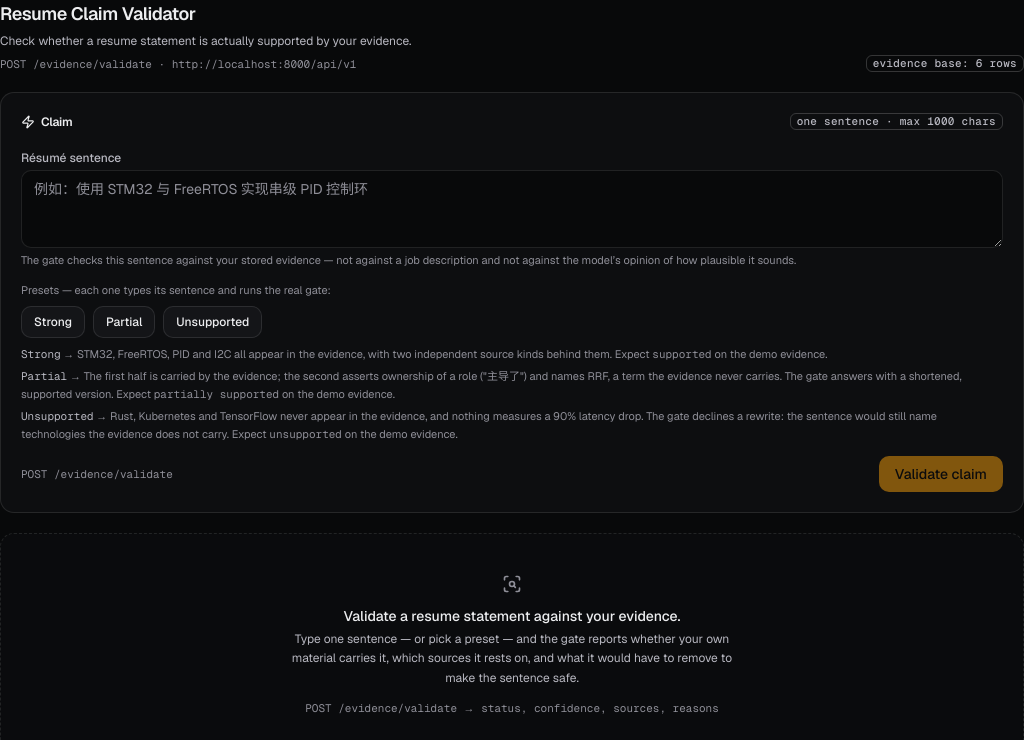
Test case: the claim validator page › renders the ownership rule as an ownership risk, and an unknown code as itself
The width and height of the screenshot is (1024, 740).
Type "使用 STM32 与 FreeRTOS 实现串级 PID 控制环" into the text box labelled "Résumé sentence" at {"x": 512, "y": 209}, box [21,170,1003,248]
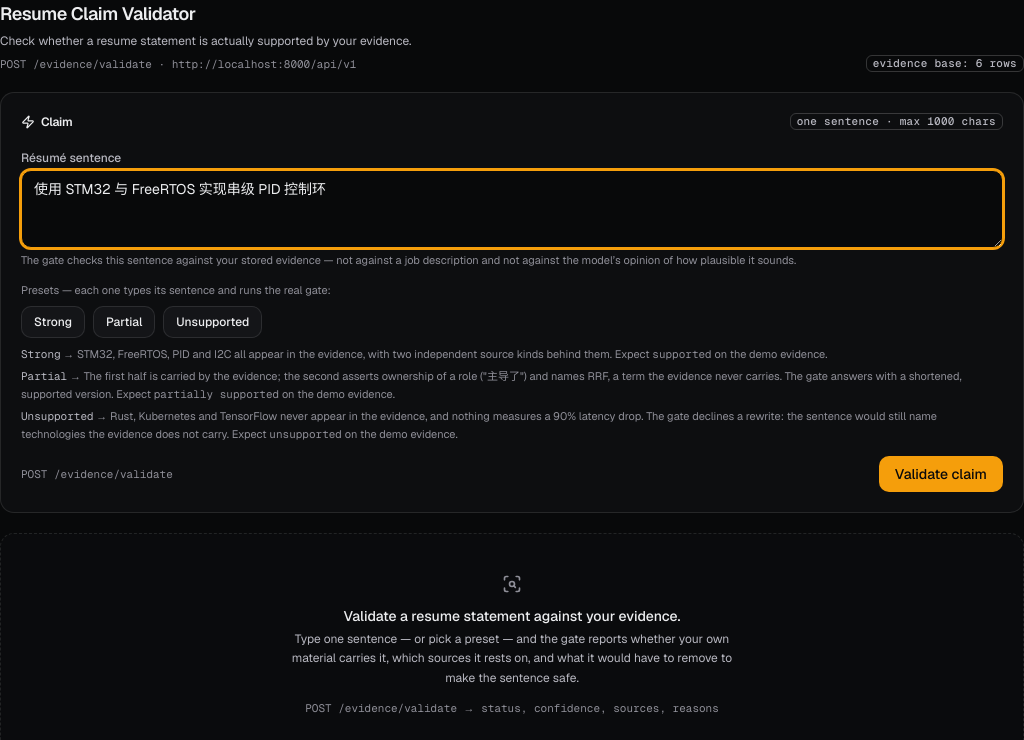
Click the button with test id "validate-claim" at {"x": 941, "y": 474}, box [879,456,1003,492]
(page scrolled)
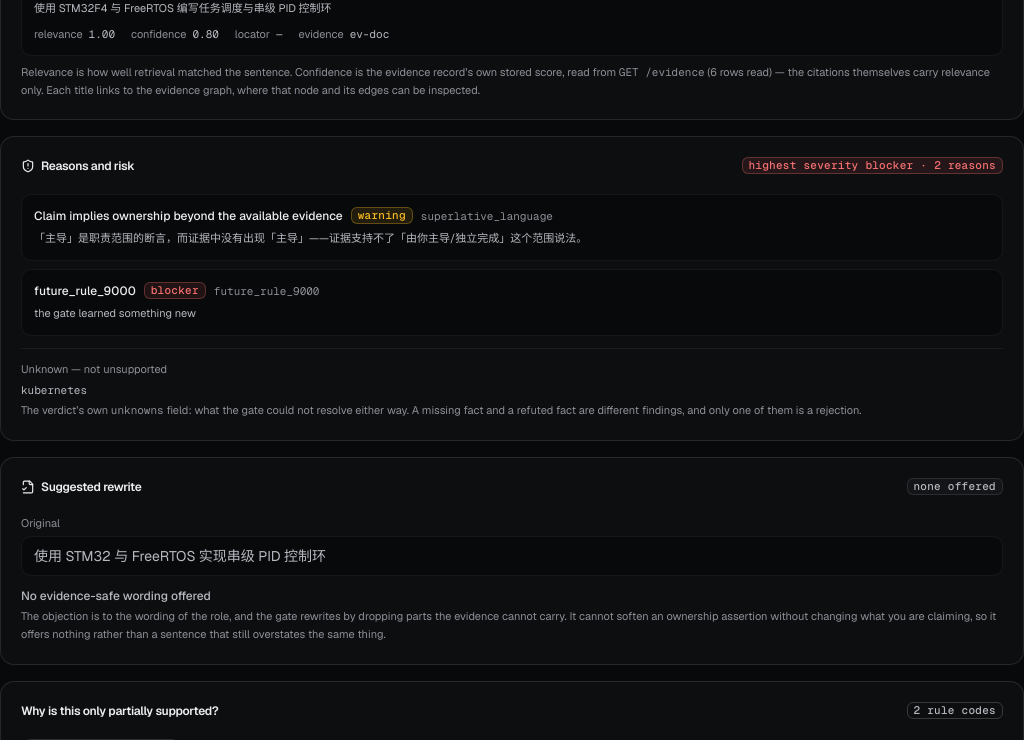
Expected: the text with test id "risk-title" reads "Claim implies ownership beyond the available evidence", [34,208,343,224]
Expected: the 1st text with test id "risk-title" reads "future_rule_9000", [34,283,136,299]
Expected: the element with test id "unknowns" shows "kubernetes", [21,383,87,397]
